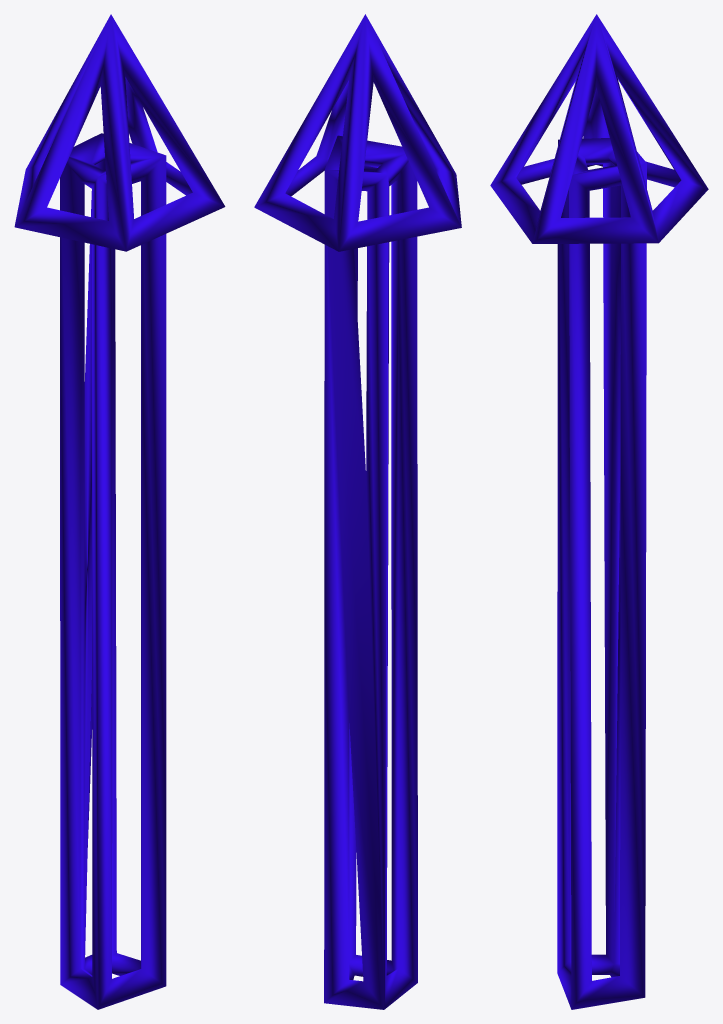
The model's file is gizmo_up.glb.
3 views of the same model, side by side, from view 1: azimuth 30°, elevation 25°; view 2: azimuth 150°, elevation 25°; view 3: azimuth 270°, elevation 25° (orthographic).
Visible parts, largest first — view 1: z.002; view 2: z.002; view 3: z.002.
Boxes of the visible parts, box(x1,y1,x2,y2) form: z.002: box(14, 14, 225, 1009); z.002: box(254, 14, 461, 1009); z.002: box(490, 14, 708, 1009).
Bounding box in the file's own units: 0.2355 × 1.23 × 0.2487.
